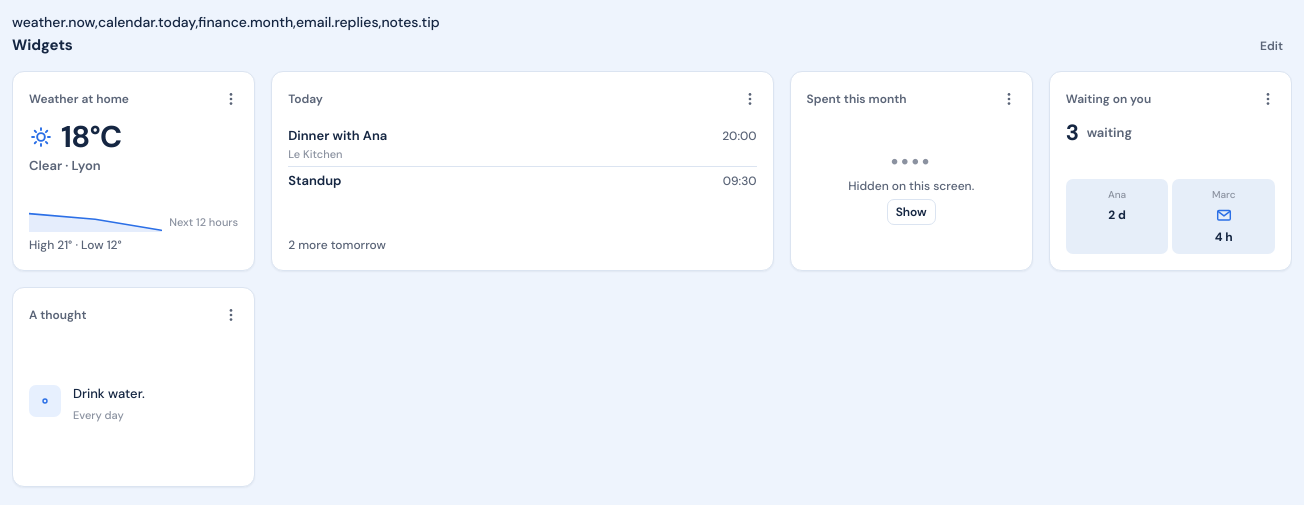
Test: the bodies › hides a sensitive body until Show, and draws its bar then
The width and height of the screenshot is (1304, 505).
Expected: the element "Spent this month" does not show "€1,284", left=790, top=71, right=1033, bottom=271
Expected: the element "Spent this month" shows "Hidden on this screen.", left=848, top=178, right=974, bottom=194
Step 1. Click the button "Show" → {"x": 911, "y": 212}, box left=887, top=199, right=936, bottom=225
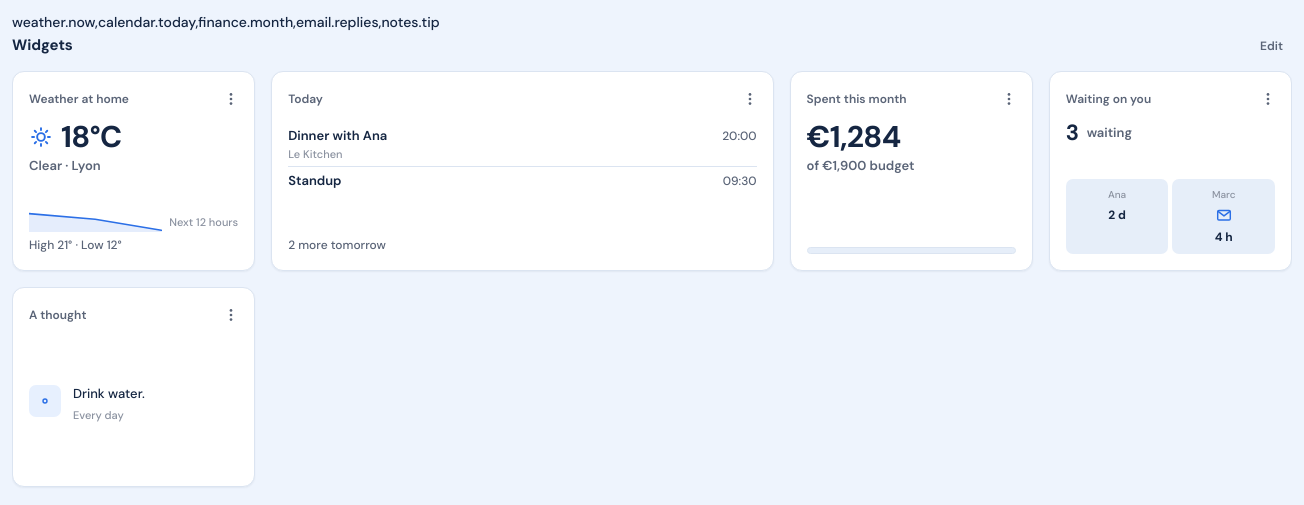
Expected: the element "Spent this month" shows "€1,284", left=807, top=117, right=901, bottom=156
